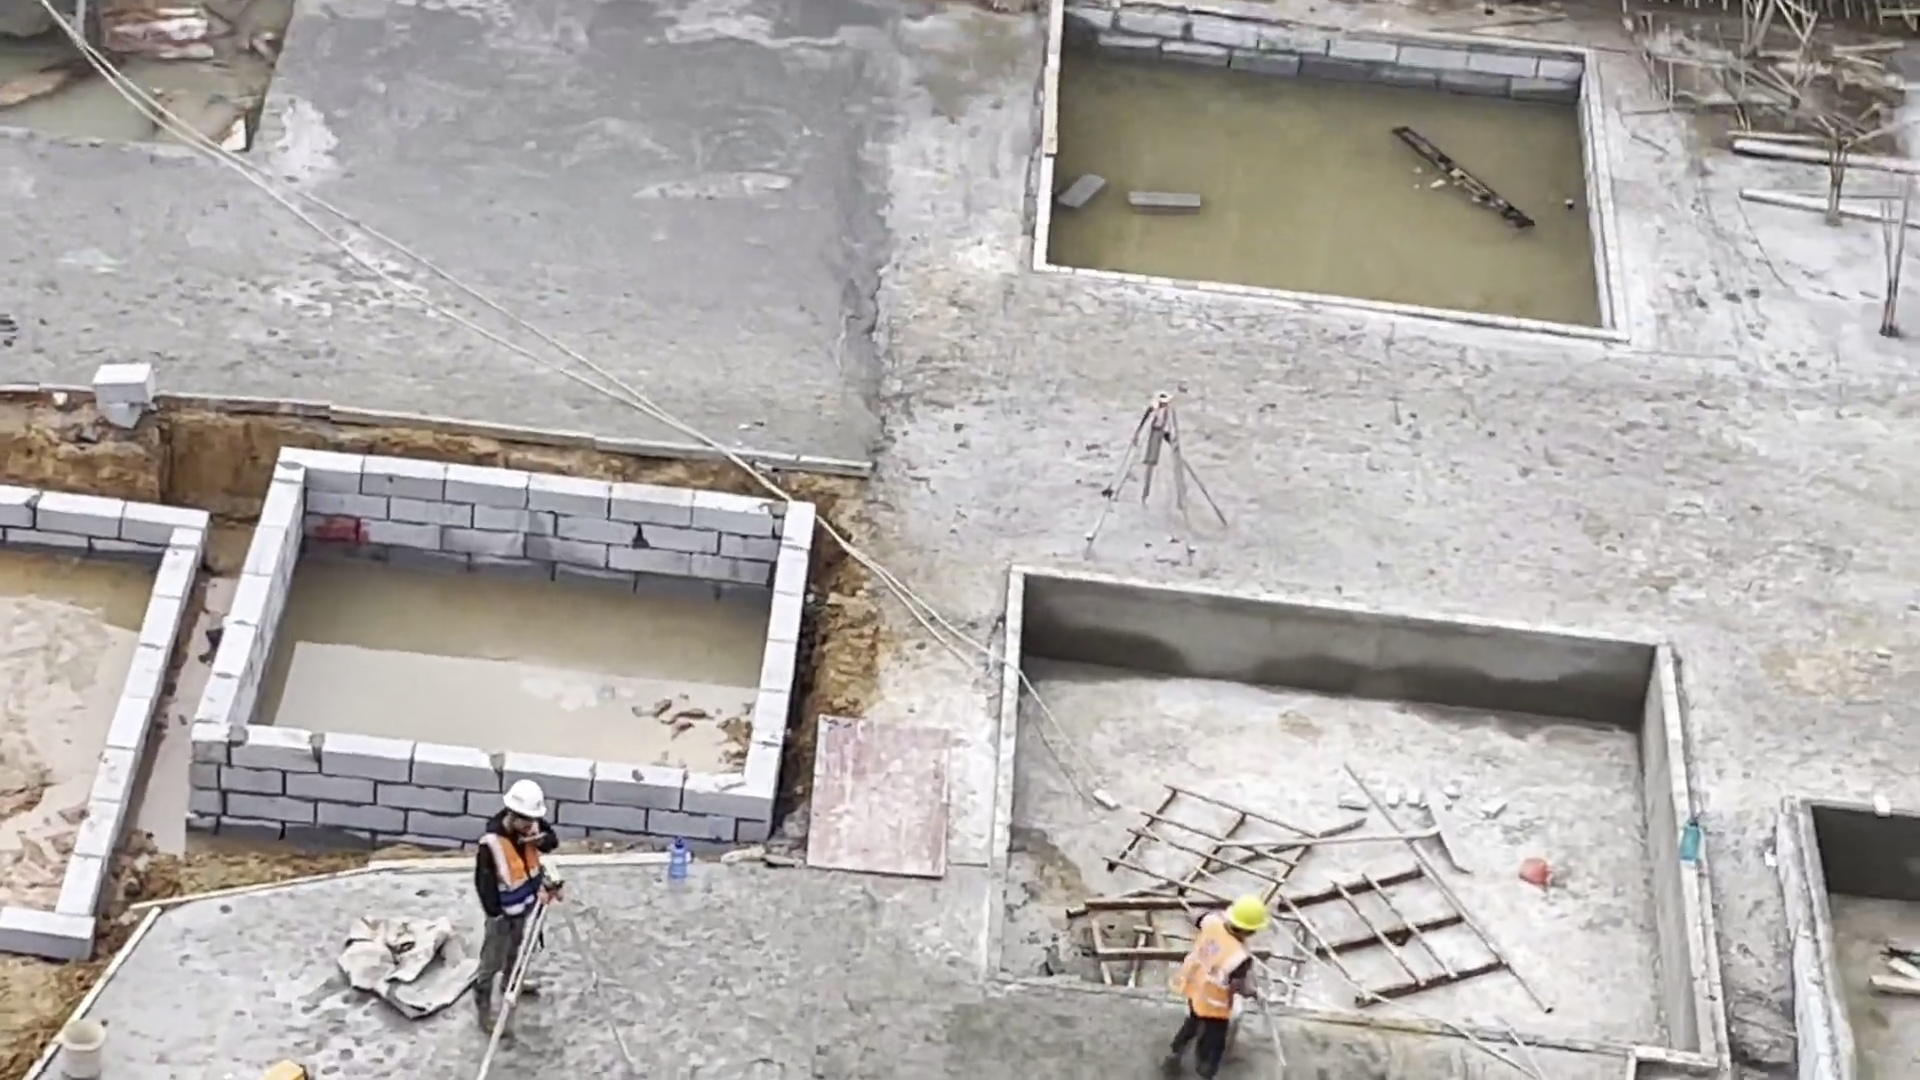brick: (296, 448, 777, 591), (244, 728, 757, 841), (61, 532, 192, 924), (1080, 10, 1545, 102), (194, 455, 296, 824), (748, 503, 806, 808), (4, 492, 196, 565), (3, 904, 85, 950)
helmet: (499, 778, 548, 818), (1220, 896, 1266, 931)
person: (470, 777, 554, 1040), (1152, 893, 1266, 1077)
vest: (1183, 915, 1240, 1019), (481, 829, 549, 911)
